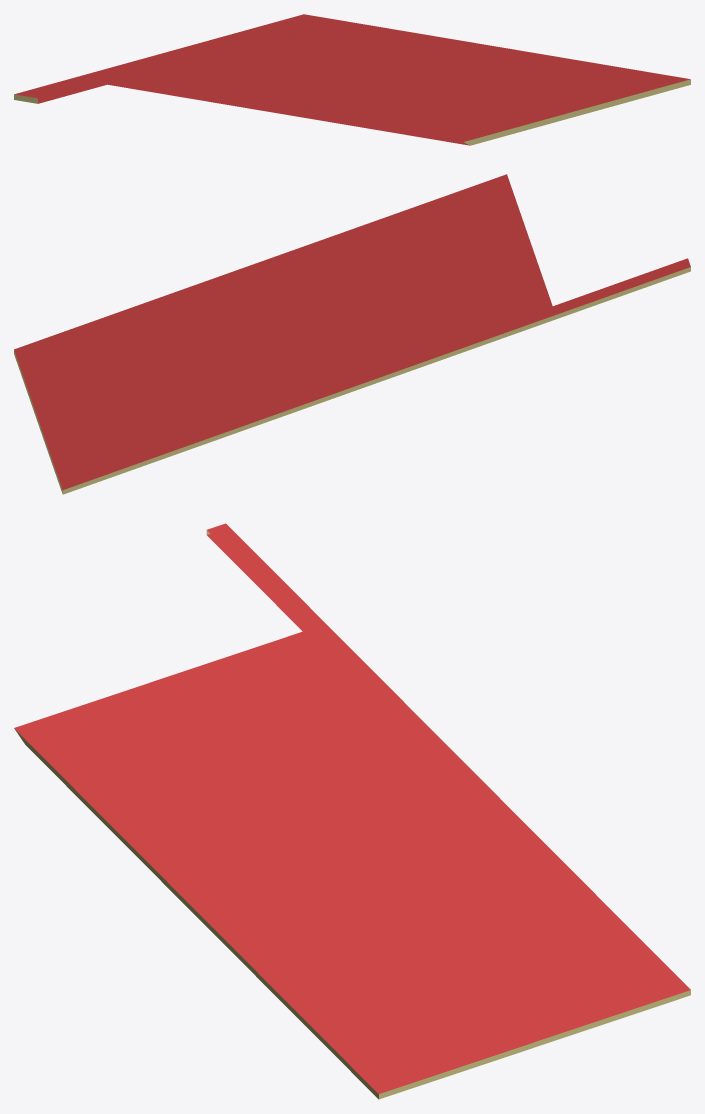
The picture shows the model from 3 angles, top to bottom: view 1: azimuth 30°, elevation 25°; view 2: azimuth 150°, elevation 25°; view 3: azimuth 270°, elevation 25°; orthographic projection. The views are drawn at different scales.
Size of the model in its own units: 14.21 by 11.52 by 4.19.
